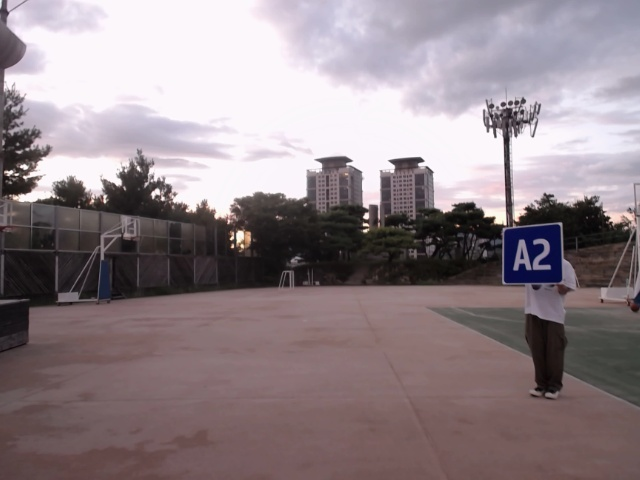delivery_a2: (503, 223, 563, 283)
